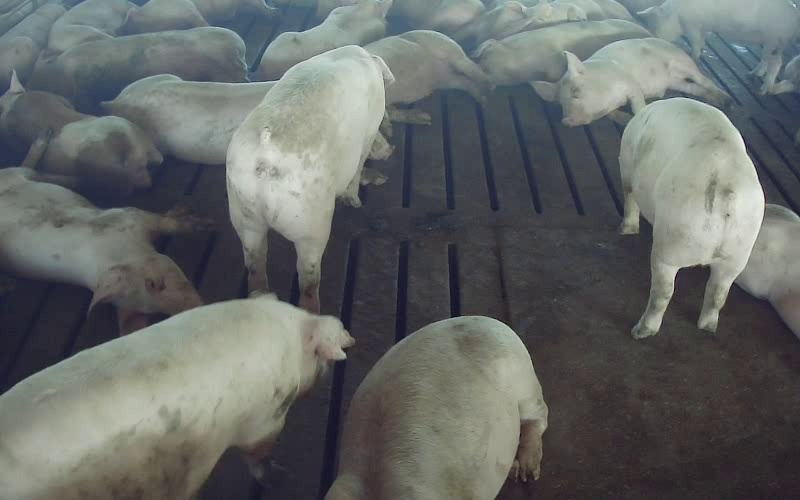pig: (0, 295, 353, 499), (227, 45, 392, 312), (326, 316, 547, 499), (0, 72, 162, 189), (27, 27, 247, 113), (531, 37, 730, 126), (101, 74, 274, 164), (638, 0, 799, 93), (364, 30, 491, 123), (473, 19, 650, 84)
